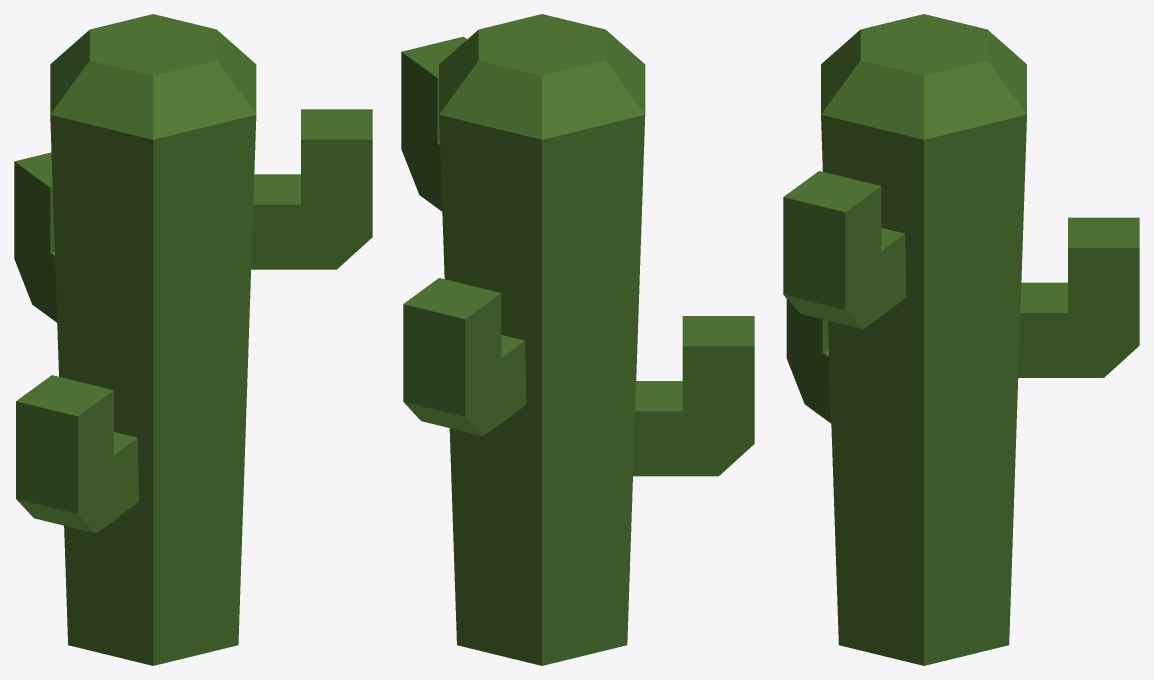
File: cactus_short.fbx
3 renders of one model, left to right at view 1: azimuth 30°, elevation 25°; view 2: azimuth 150°, elevation 25°; view 3: azimuth 270°, elevation 25°, orthographic.
Visible parts, largest first — view 1: cactus_short; view 2: cactus_short; view 3: cactus_short.
Part boxes in pixels (x1,y1,x2,y2): cactus_short: [14, 14, 372, 665]; cactus_short: [401, 14, 754, 665]; cactus_short: [783, 14, 1139, 665].
Size of the model in its own units: 1.42 by 2.22 by 1.24.
